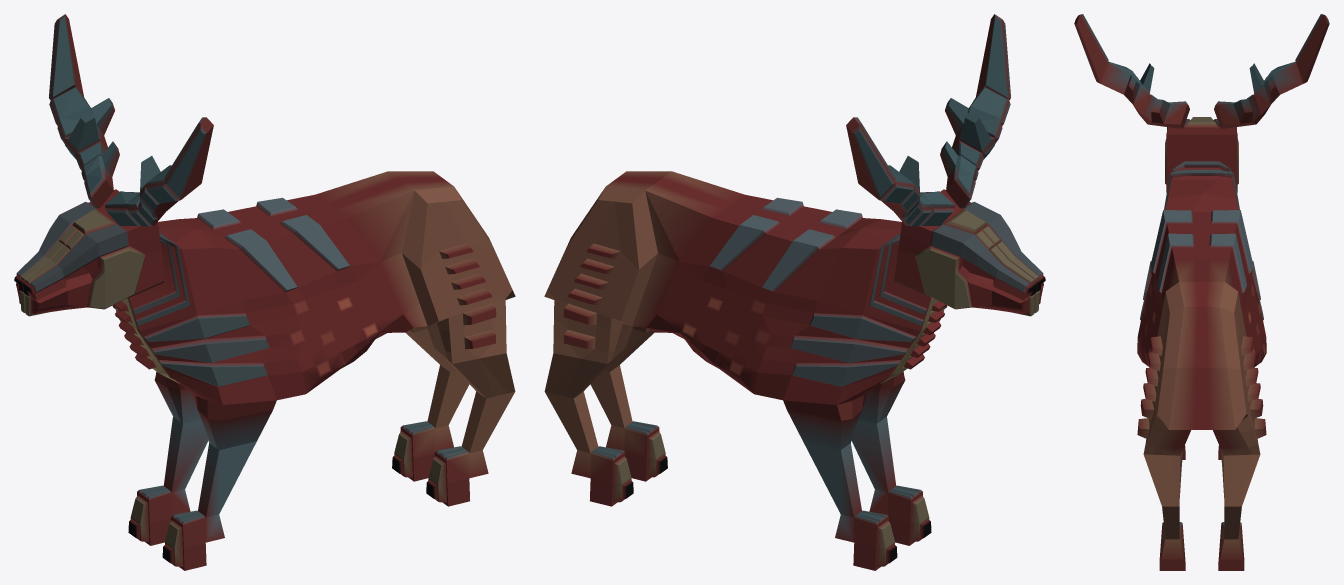
The model's file is ENV_Relic_02_Deer_02_Weak.fbx.
3 renders of one model, left to right at view 1: azimuth 30°, elevation 25°; view 2: azimuth 150°, elevation 25°; view 3: azimuth 270°, elevation 25°, orthographic. The views are drawn at different scales.
Visible parts, largest first — view 1: ENV_Relic_02_Deer_02_Weak; view 2: ENV_Relic_02_Deer_02_Weak; view 3: ENV_Relic_02_Deer_02_Weak.
Boxes of the visible parts, box(x1,y1,x2,y2) form: ENV_Relic_02_Deer_02_Weak: box(14, 14, 515, 570); ENV_Relic_02_Deer_02_Weak: box(544, 14, 1045, 570); ENV_Relic_02_Deer_02_Weak: box(1074, 14, 1329, 570).
Bounding box in the file's own units: 565 × 562 × 305.
